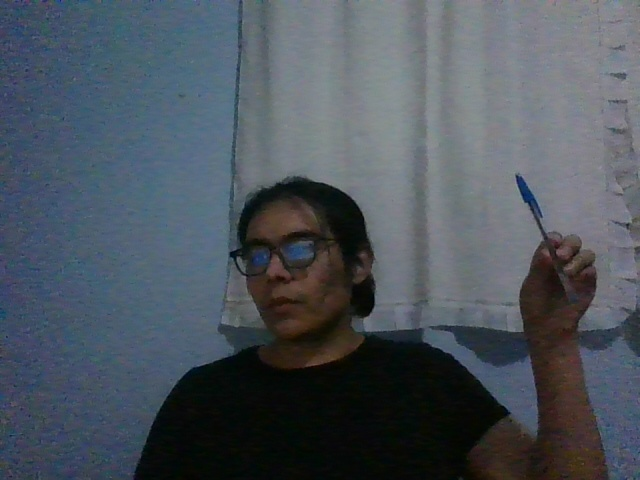pluma: (513, 171, 579, 304)
